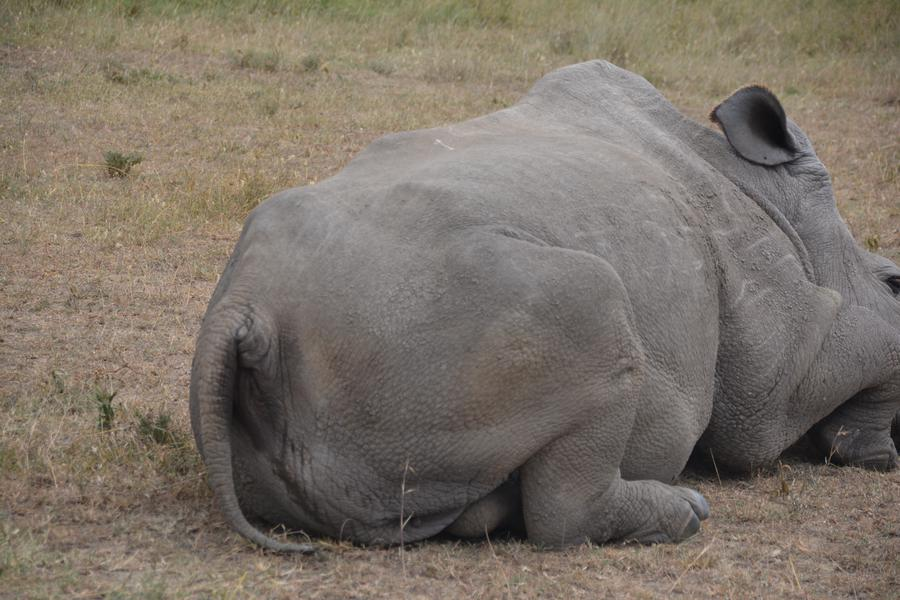rhino: (224, 49, 889, 555)
